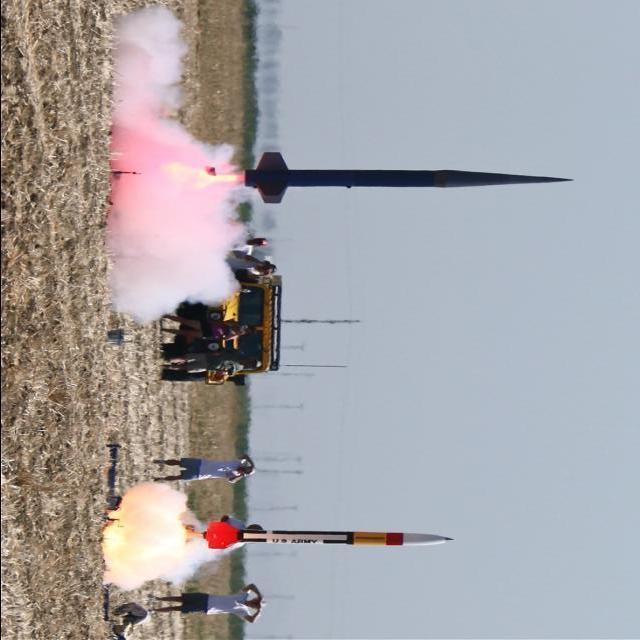missile: (243, 146, 572, 203), (212, 513, 456, 551)
